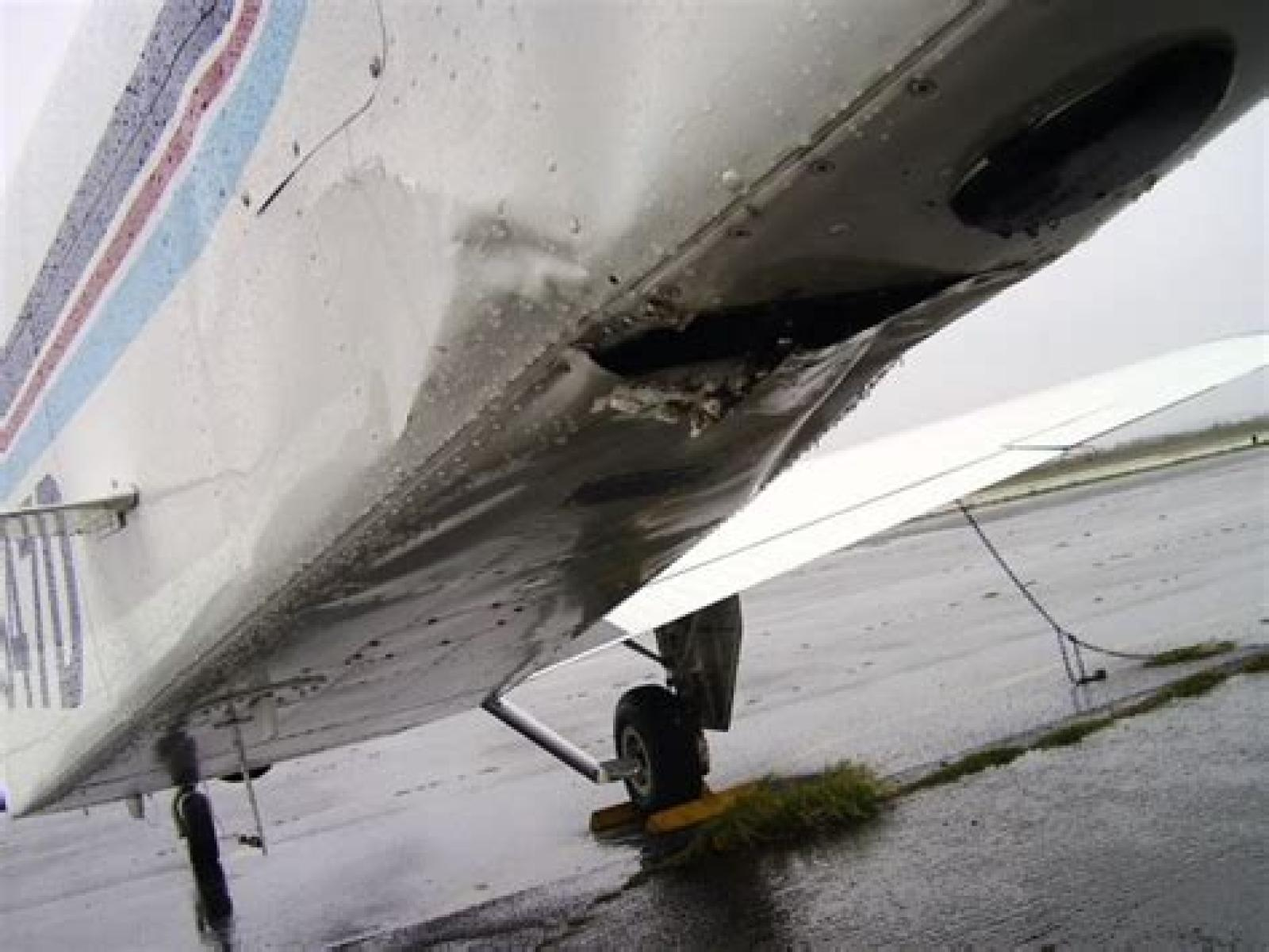Fuselage_damage: (581, 292, 875, 375)
Skin_Cover: (608, 375, 747, 432)
